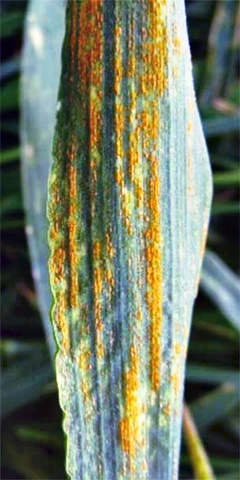Leaf Rust: (47, 2, 202, 426)
